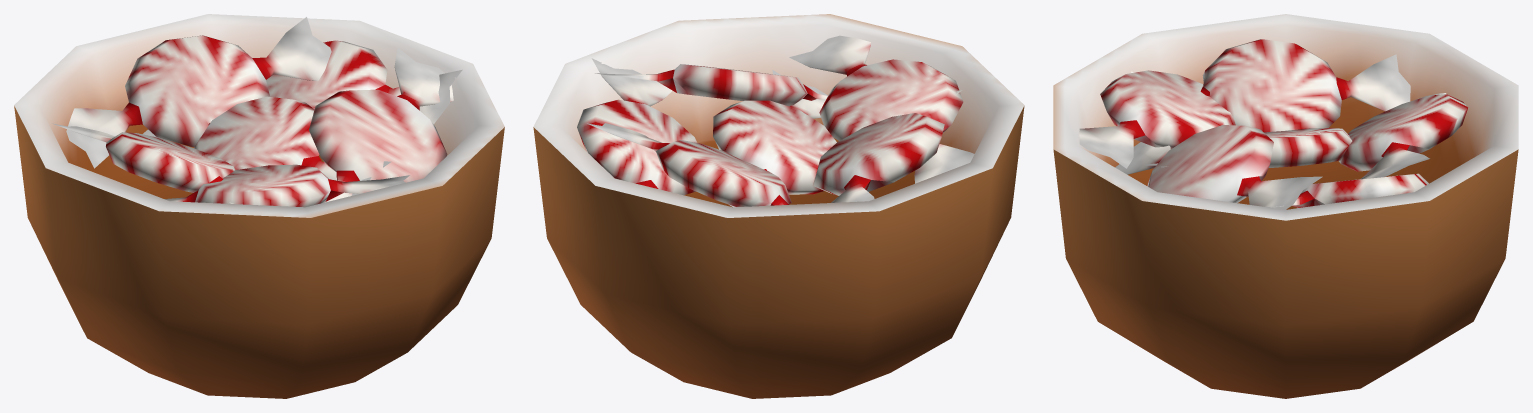
Rendered from BowlofCandy.fbx.
3 renders of one model, left to right at view 1: azimuth 30°, elevation 25°; view 2: azimuth 150°, elevation 25°; view 3: azimuth 270°, elevation 25°, orthographic.
Visible parts, largest first — view 1: BowlCandy; view 2: BowlCandy; view 3: BowlCandy.
Boxes of the visible parts, x1,y1,x2,y2 form: BowlCandy: (14, 14, 504, 398); BowlCandy: (533, 14, 1024, 398); BowlCandy: (1053, 14, 1518, 398).
Bounding box in the file's own units: 27.48 × 15.22 × 26.14.
